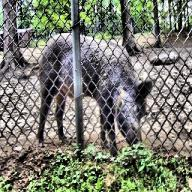boar: (36, 32, 153, 156)
